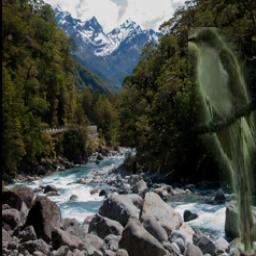Cuckoo: (187, 27, 256, 254)
